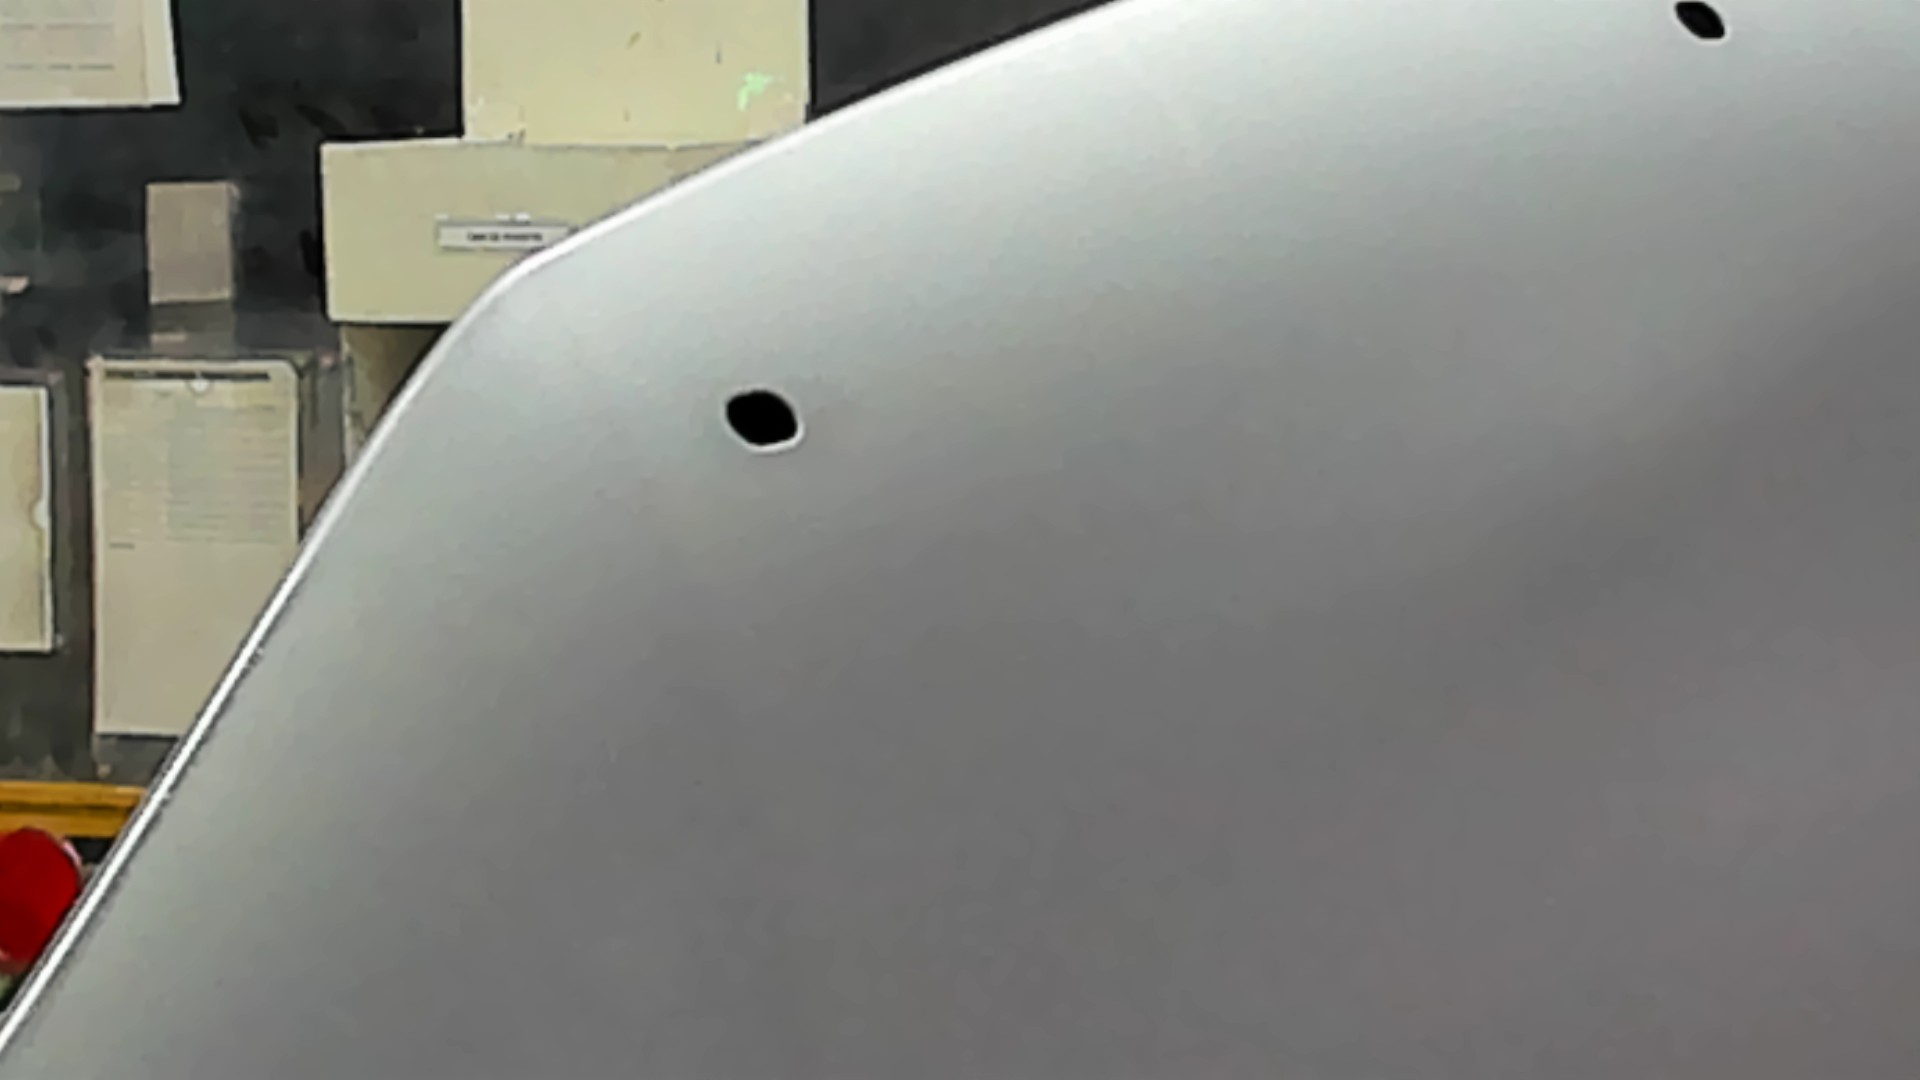chico: (709, 376, 820, 460), (1665, 1, 1741, 53)
